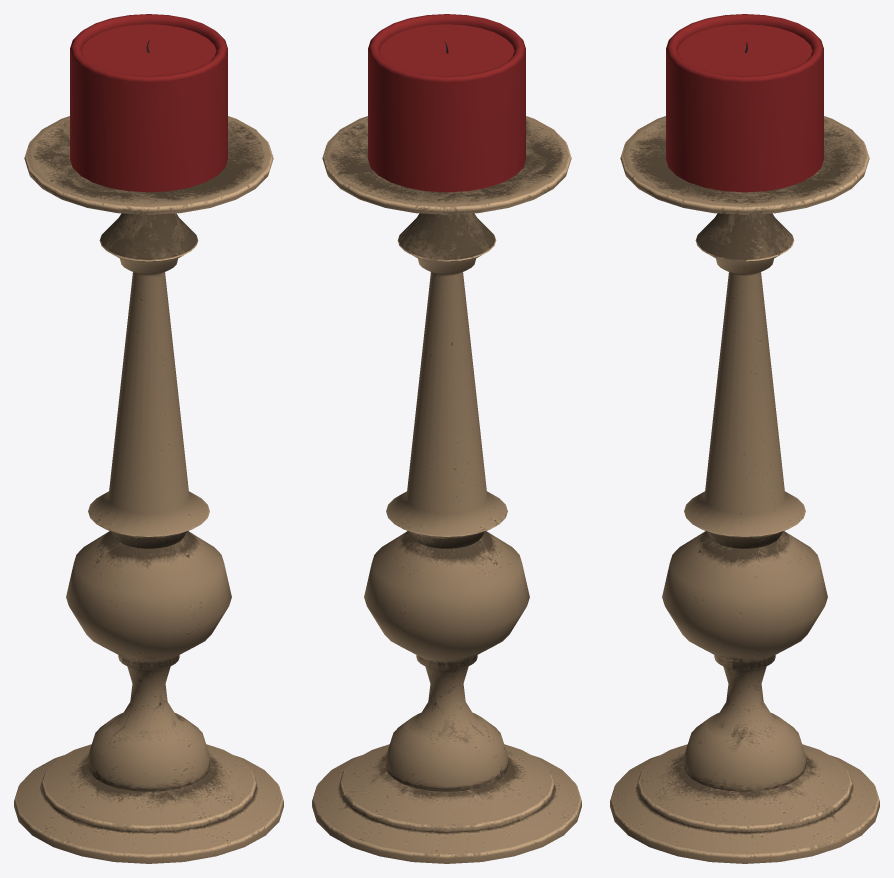
The model's file is candle_02.fbx.
3 views of the same model, side by side, from view 1: azimuth 30°, elevation 25°; view 2: azimuth 150°, elevation 25°; view 3: azimuth 270°, elevation 25° (orthographic).
Visible parts, largest first — view 1: candle 02; view 2: candle 02; view 3: candle 02.
Part boxes in pixels (left/top/right/bottom): candle 02: left=14, top=14, right=283, bottom=863; candle 02: left=312, top=14, right=581, bottom=863; candle 02: left=610, top=14, right=879, bottom=863.
Size of the model in its own units: 36.19 by 113 by 36.19.
